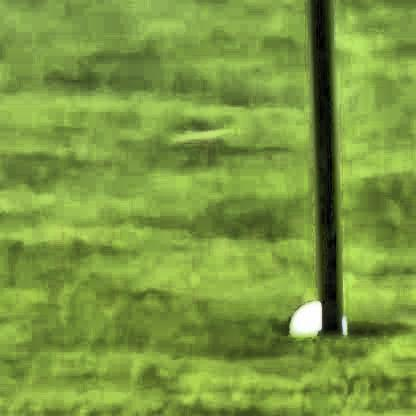golfball: (283, 308, 345, 345)
